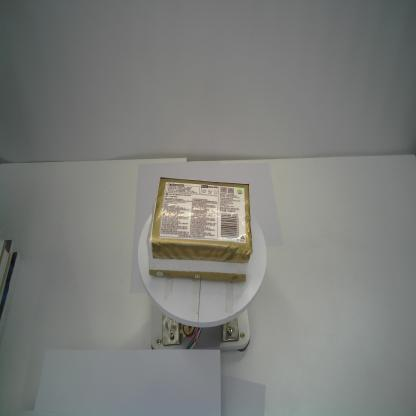Tissue: (146, 176, 252, 282)
